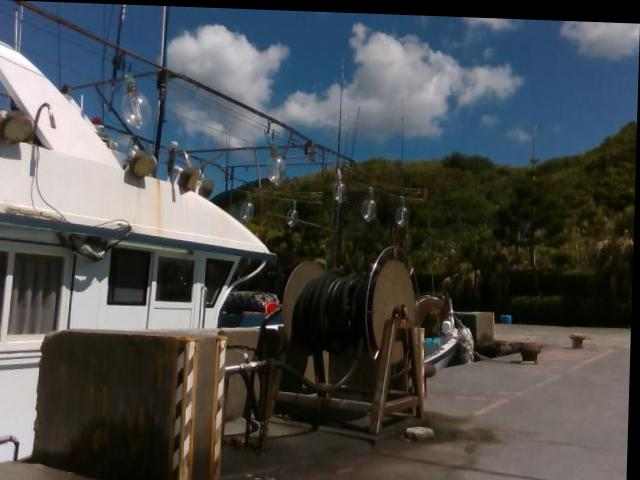pollute: (500, 309, 515, 322)
